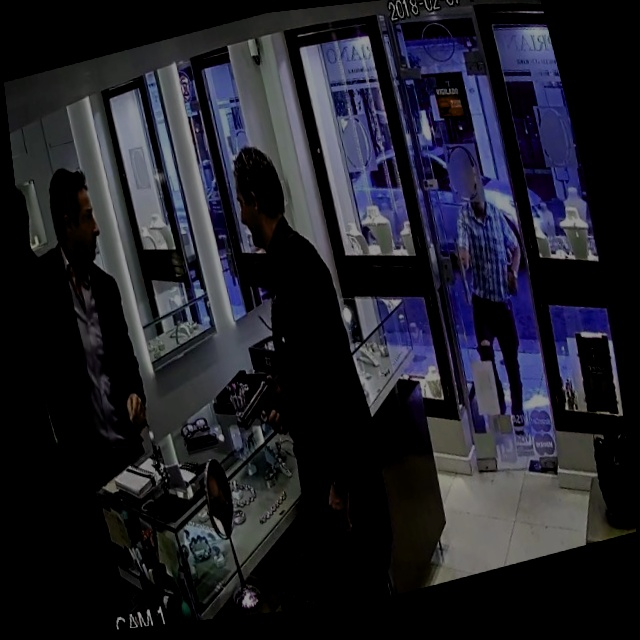gun: (217, 353, 298, 455)
